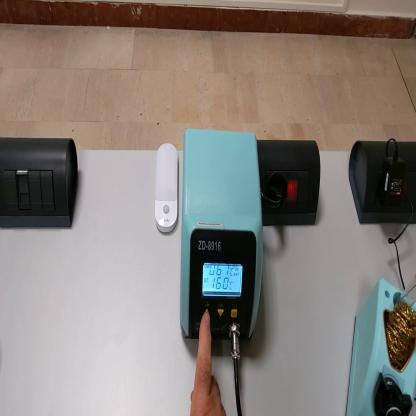hand: (189, 308, 227, 415)
socket: (258, 140, 326, 227), (351, 140, 416, 223)
welder base: (347, 275, 416, 415)
welder probe tip: (384, 408, 405, 413)
welder station: (180, 129, 264, 342)
